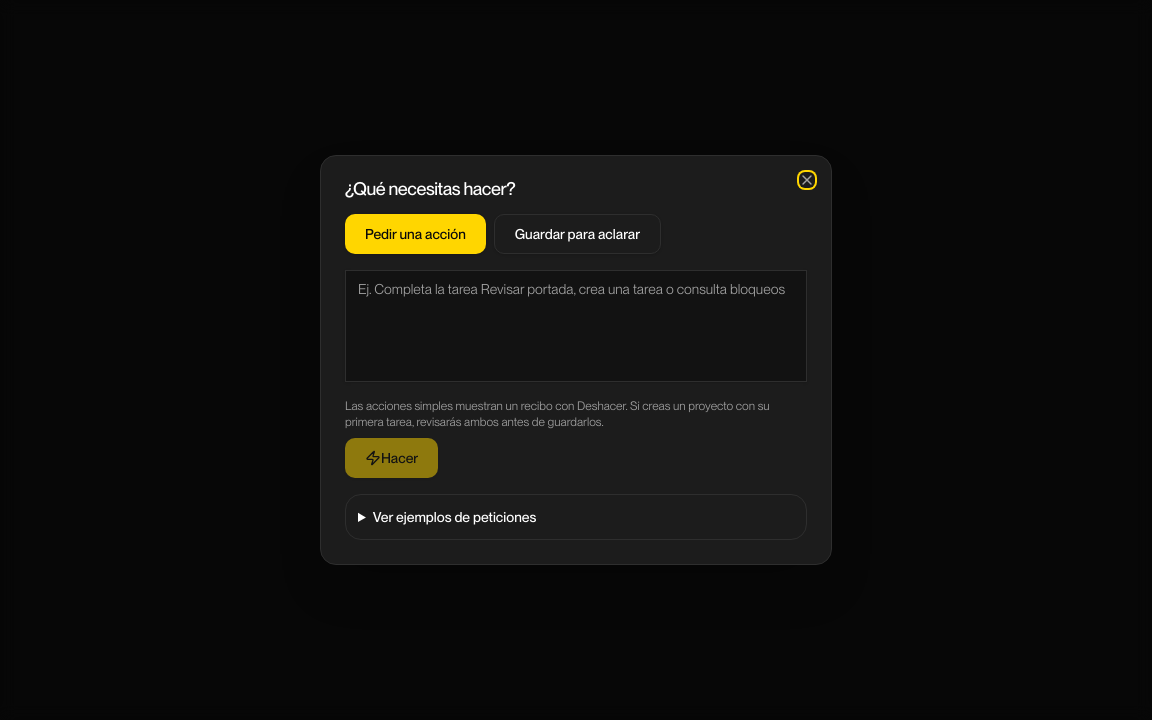
command entry › shows a linked receipt and allows undo
This screenshot has width=1152, height=720.
Type "Completa la tarea Revisar portada" into the text box named "Petición" at coordinates (576, 326), box [345, 270, 807, 382]
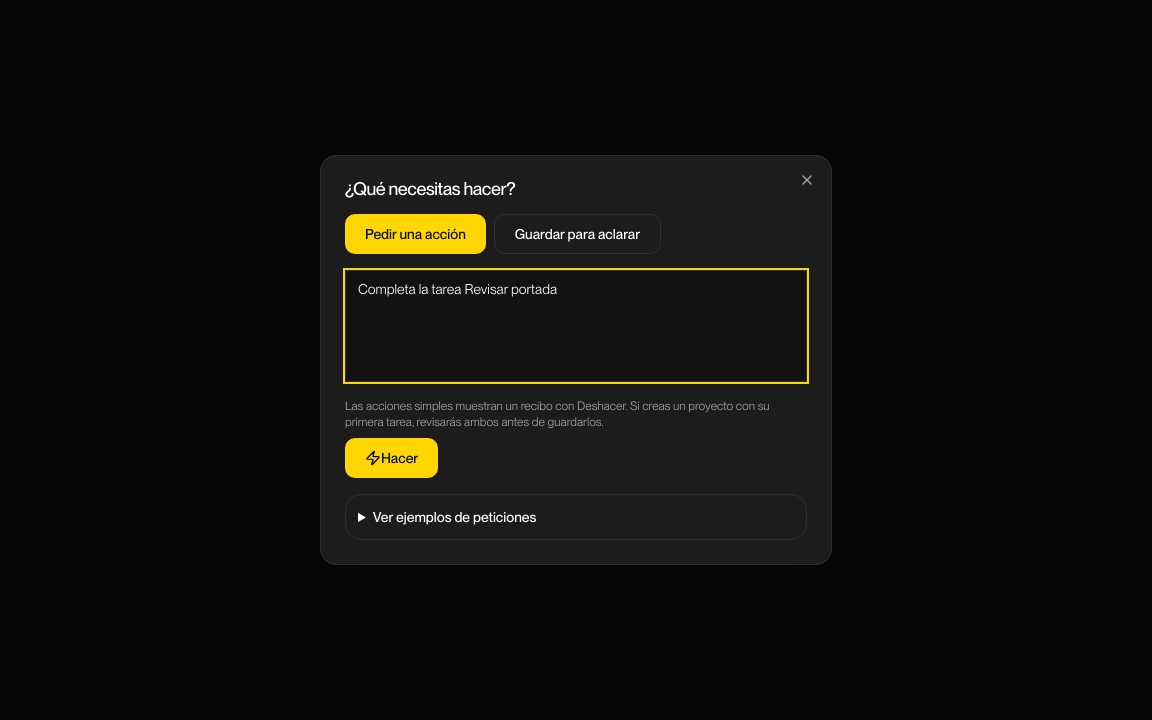
Click the button "Hacer" at coordinates (392, 458), box [345, 438, 438, 478]
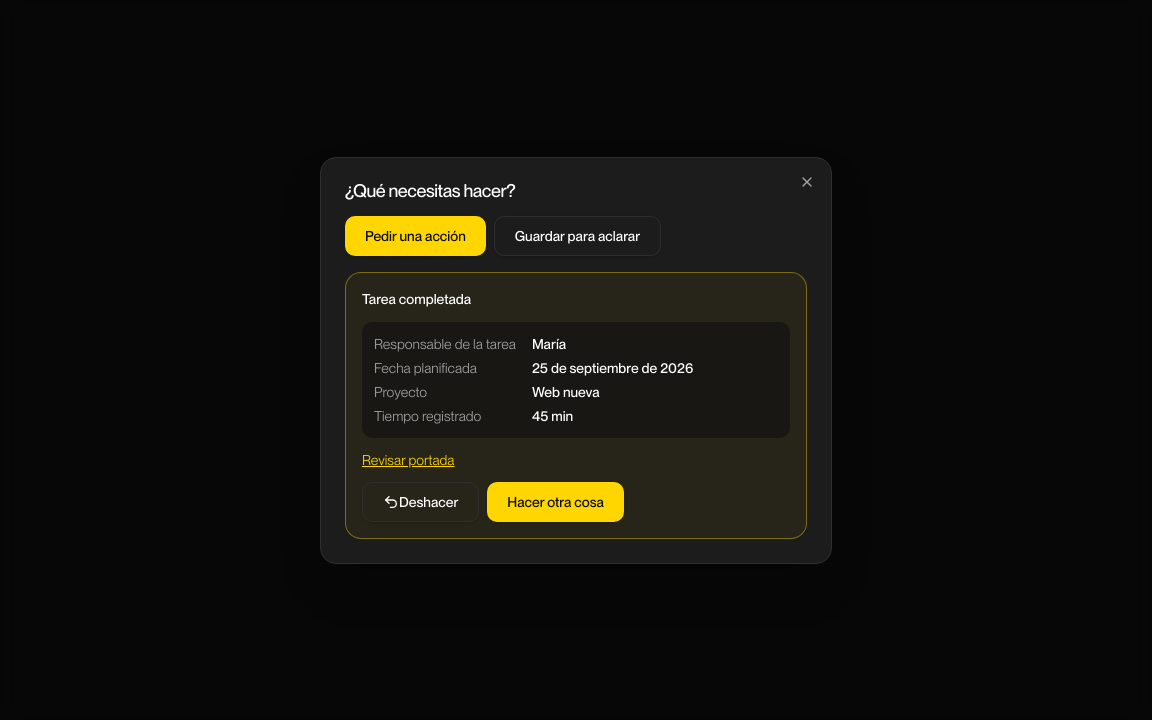
Now the text "Tarea completada" is shown, box [362, 290, 471, 306]
Now the text "Web nueva" is shown, box [532, 384, 600, 400]
Now the text "María" is shown, box [532, 336, 566, 352]
Click the button "Deshacer" at coordinates (421, 502), box [362, 482, 479, 522]
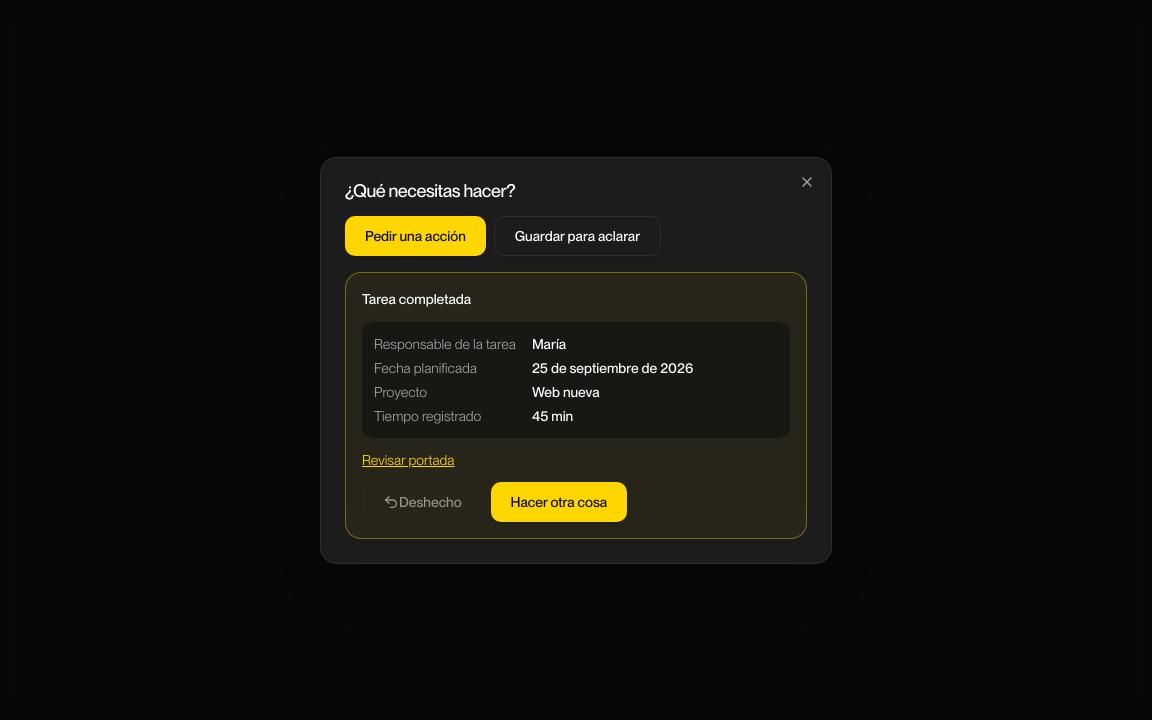
Now the button "Deshecho" is disabled, box [362, 482, 483, 522]
